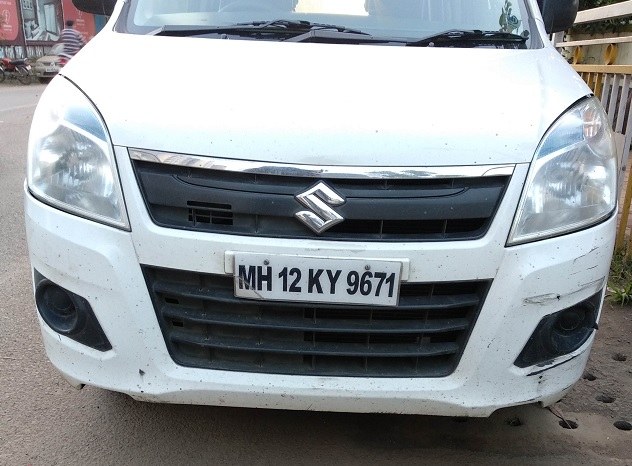licenseplate: (231, 249, 404, 311)
